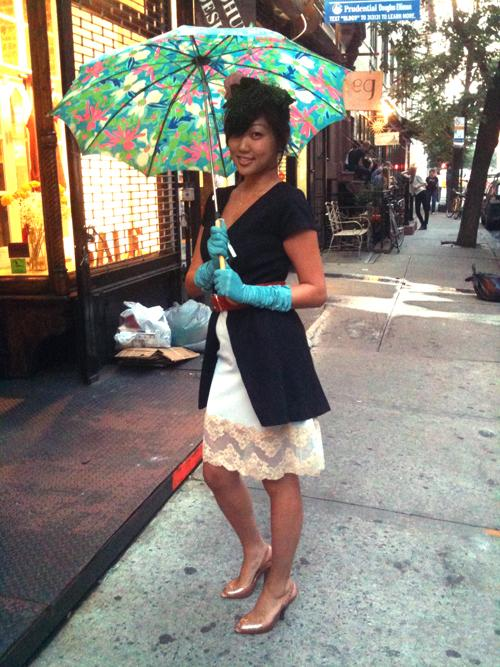person: (184, 78, 331, 639)
